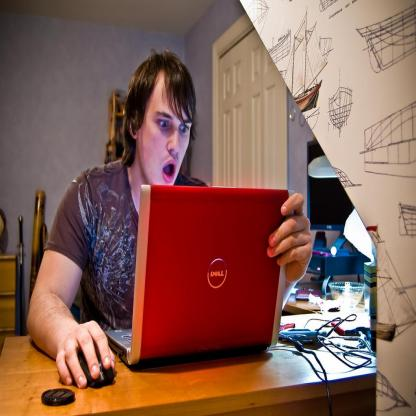board: (122, 185, 298, 384)
